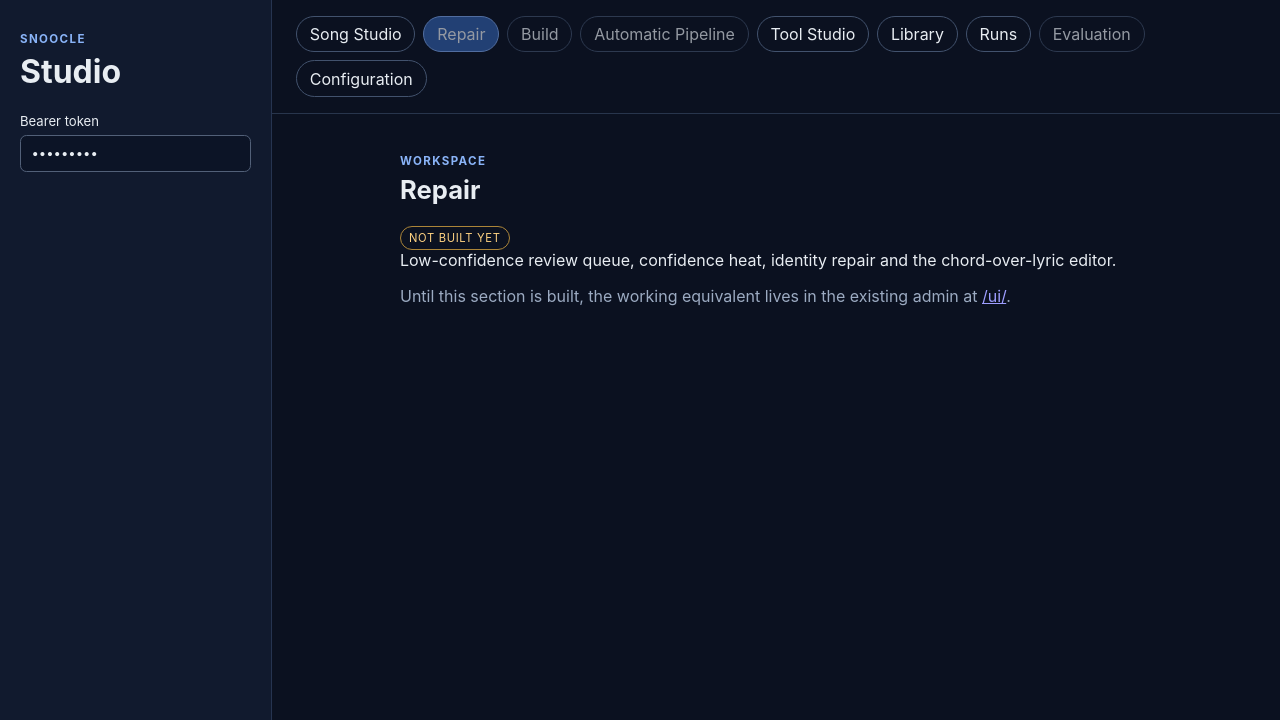
Test: StudioApp › navigates to Library and renders a song row fetched from the REST API
The image size is (1280, 720).
What coordinates should you click on to do the following:
click the button "Library"
I would click on:
 (917, 34)
Its box is [877,16,958,52].
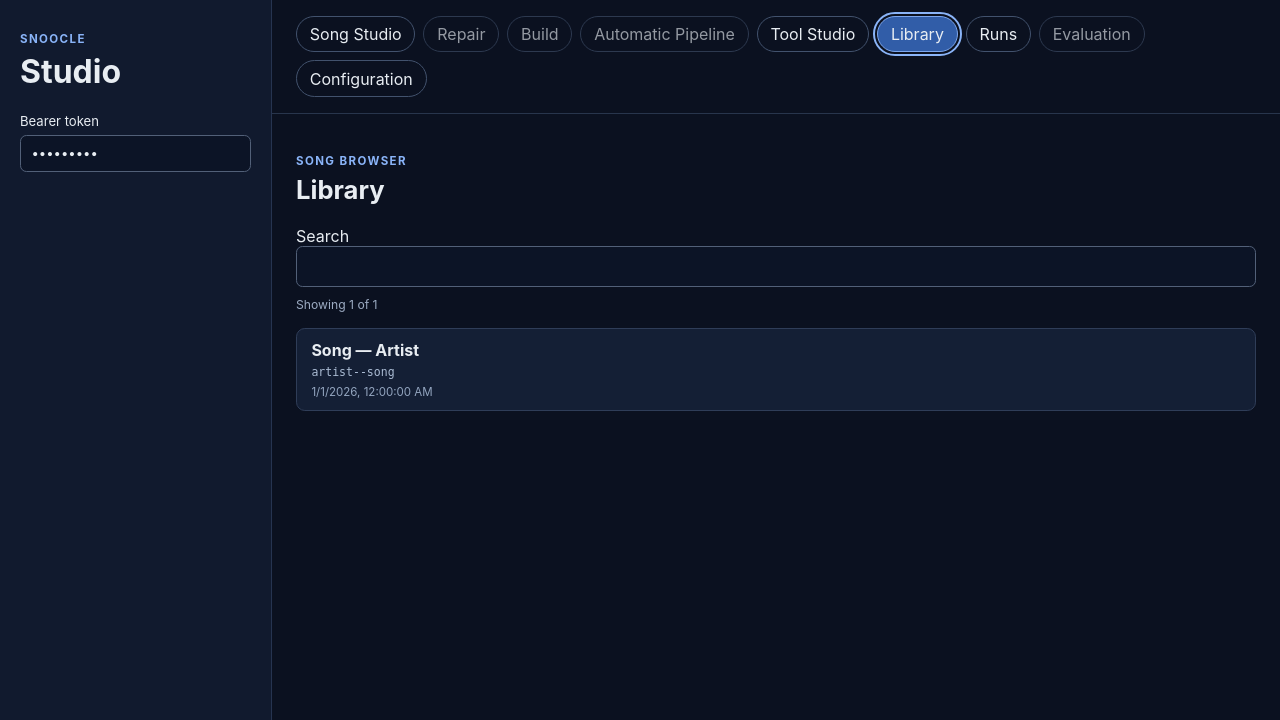
Expected: the heading "Library" is shown, [296,174,385,205]
Expected: the text "Song — Artist" is shown, [311,340,419,360]
